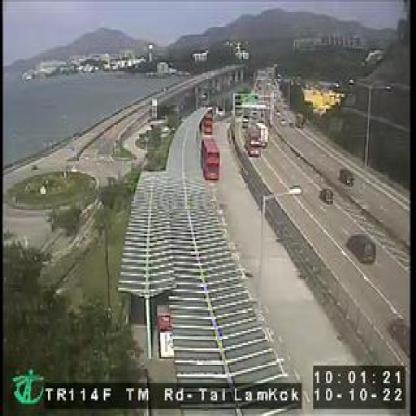Bus: (199, 136, 220, 180), (203, 114, 214, 137)
Car: (345, 234, 375, 265), (339, 166, 354, 185), (318, 188, 333, 204)
Truck: (245, 128, 259, 158)
